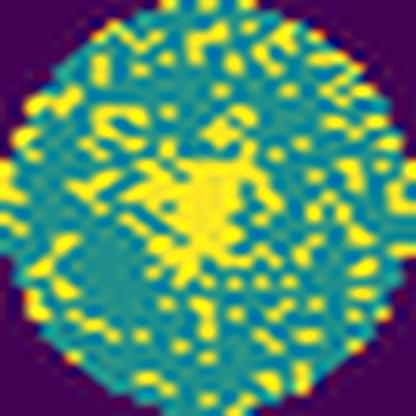Center: (114, 132, 280, 286)
